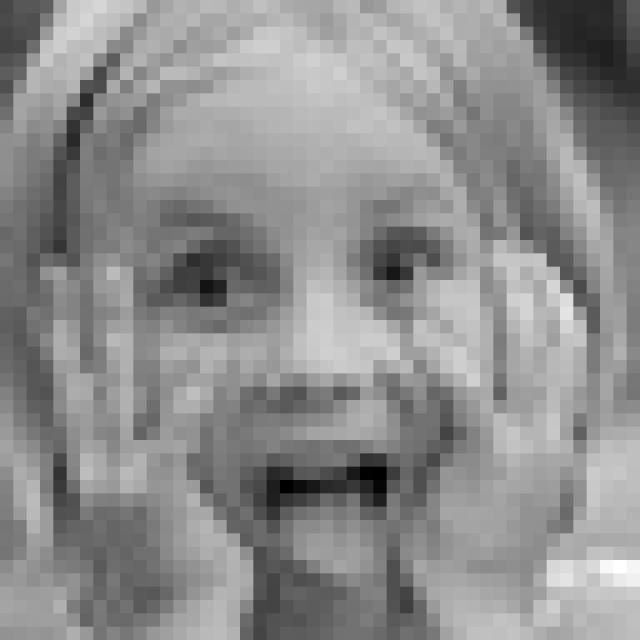fear: (133, 174, 484, 600)
